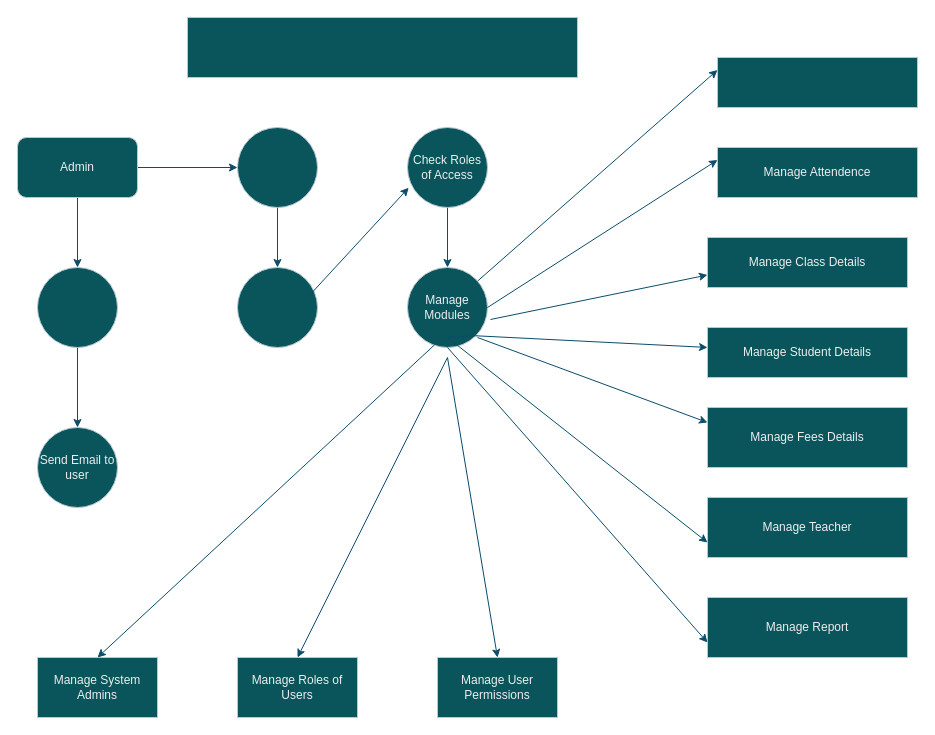
Some shapes in this 935 by 735 pixel diagram are drawn without their labels. Each missing label, with the centre of its shape:
Check Credentials: (277,307)
Forgot password: (77,307)
Login to System: (277,167)
Manage Timetables: (817,82)
STUDENT INFORMATION SYSTEM: (382,47)
